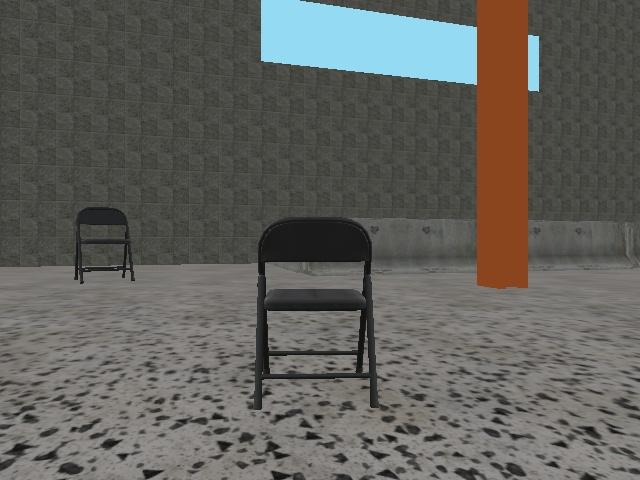chair: (250, 215, 381, 411), (72, 204, 136, 285)
